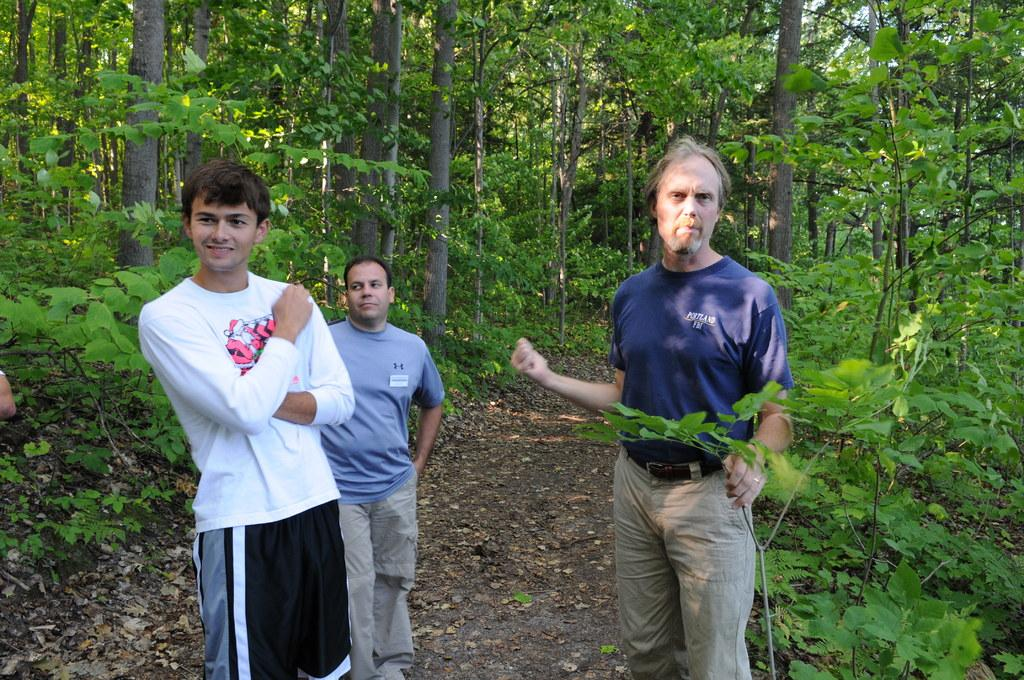Sem Máscara: (651, 153, 737, 249), (193, 194, 263, 265), (348, 273, 394, 317)
